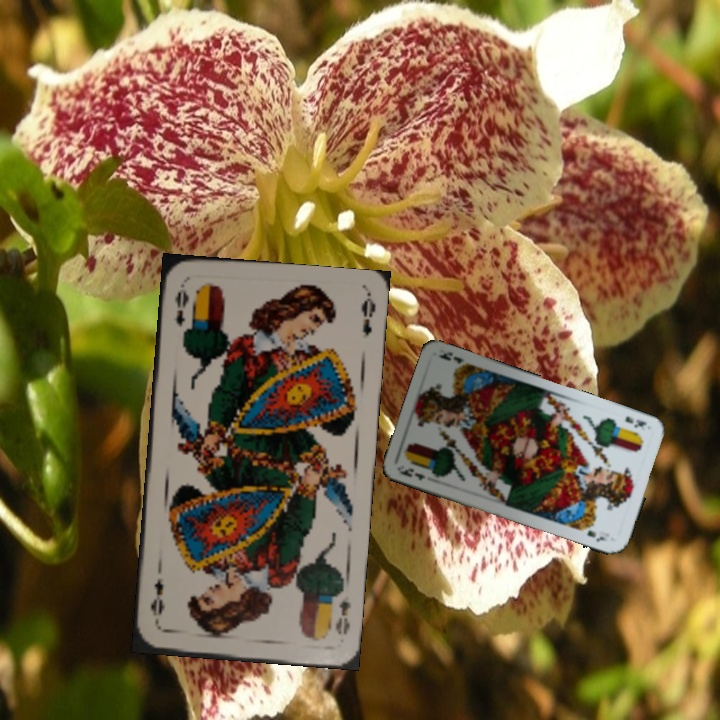EK: (395, 464, 428, 483), (621, 412, 649, 431)
EO: (331, 592, 353, 638), (171, 286, 192, 329)
